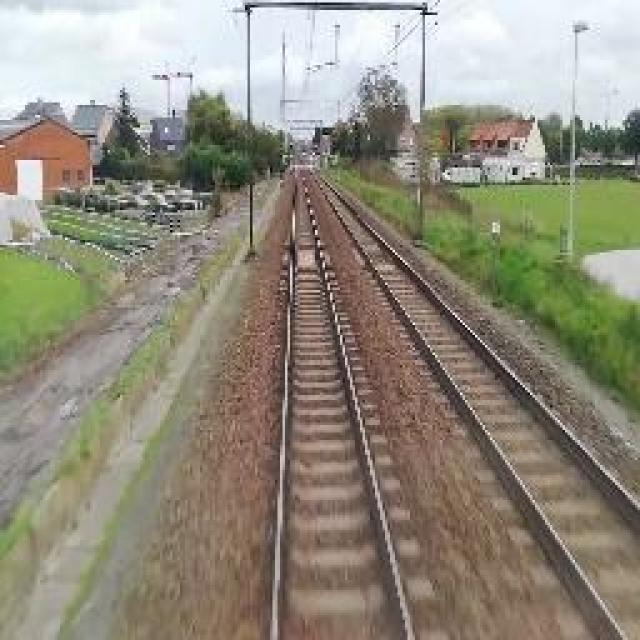rail: (253, 164, 456, 640)
